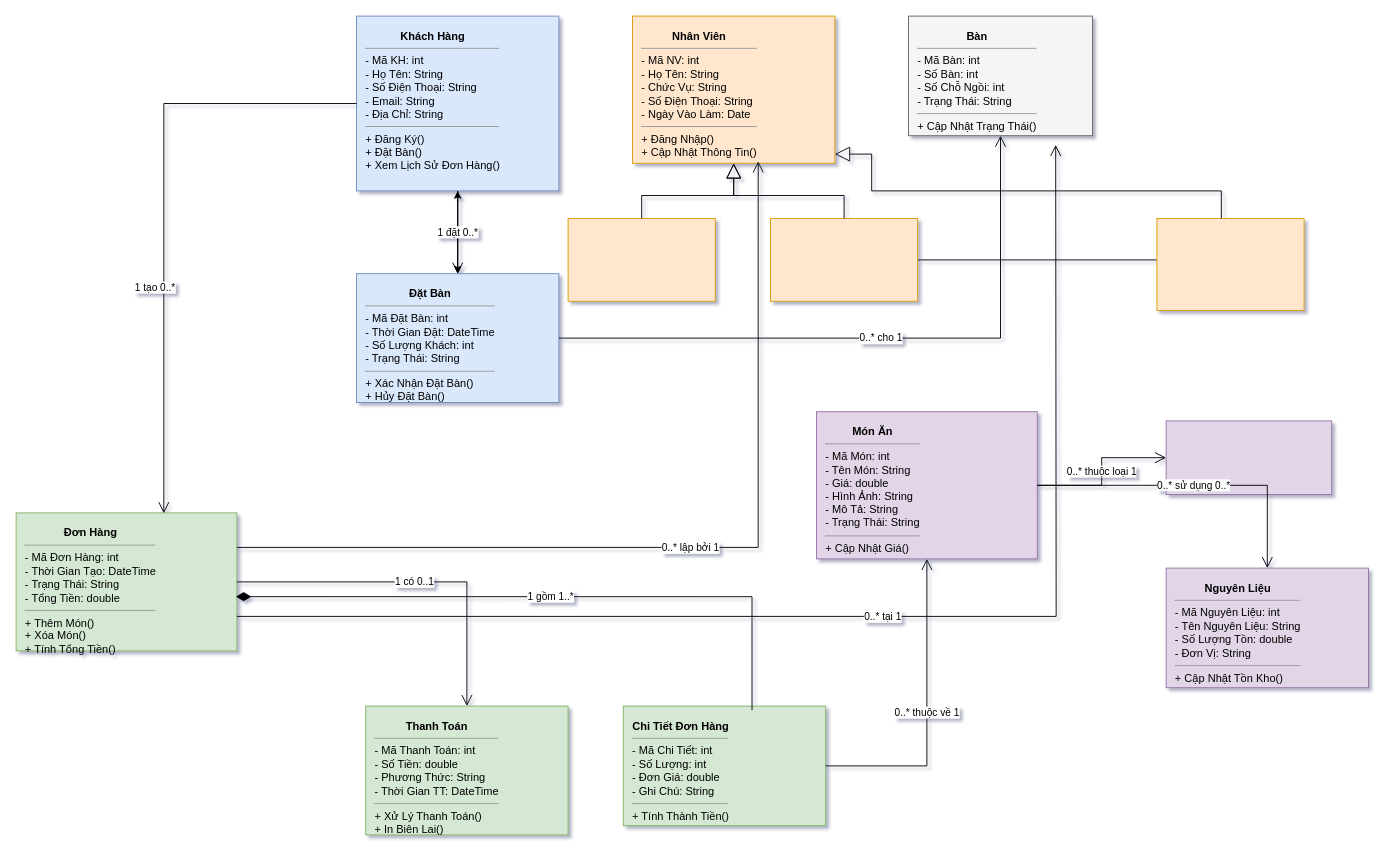
This 1390x858 diagram has some shape labels left out. Each missing label, with the centre of its shape:
"Loại Món - Mã Loại: int - Tên Loại: String" belongs at point (1248, 457).
"Phục Vụ + Ghi Order() + Phục Vụ Bàn()" belongs at point (641, 259).
"Quản Lý + Quản Lý Nhân Viên() + Thống Kê Doanh Thu() + Quản Lý Thực Đơn()" belongs at point (1230, 264).
"Thu Ngân + Thanh Toán() + In Hóa Đơn()" belongs at point (844, 259).
